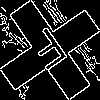F: (25, 25, 76, 80)
